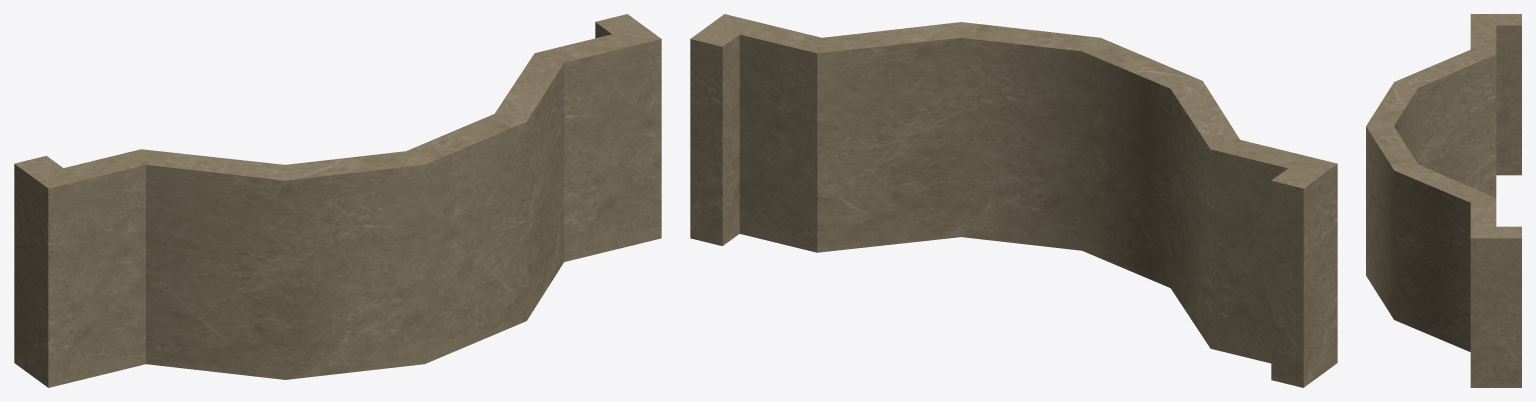
Rendered from Wall02_Maincity_001.FBX.
3 views of the same model, side by side, from view 1: azimuth 30°, elevation 25°; view 2: azimuth 150°, elevation 25°; view 3: azimuth 270°, elevation 25° (orthographic). The views are drawn at different scales.
Visible parts, largest first — view 1: Wall02_Maincity_001; view 2: Wall02_Maincity_001; view 3: Wall02_Maincity_001.
Part boxes in pixels (x1,y1,x2,y2): Wall02_Maincity_001: (14, 14, 661, 387); Wall02_Maincity_001: (690, 14, 1337, 387); Wall02_Maincity_001: (1366, 14, 1521, 387).
Size of the model in its own units: 570 by 177 by 167.
Materials: 1 (1 with a texture image).
